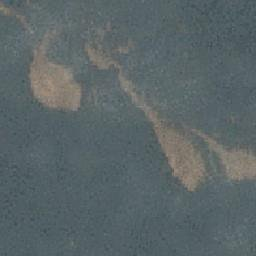debris: (149, 108, 203, 192), (28, 36, 83, 112), (205, 130, 256, 183), (86, 38, 116, 74), (121, 69, 146, 112)
